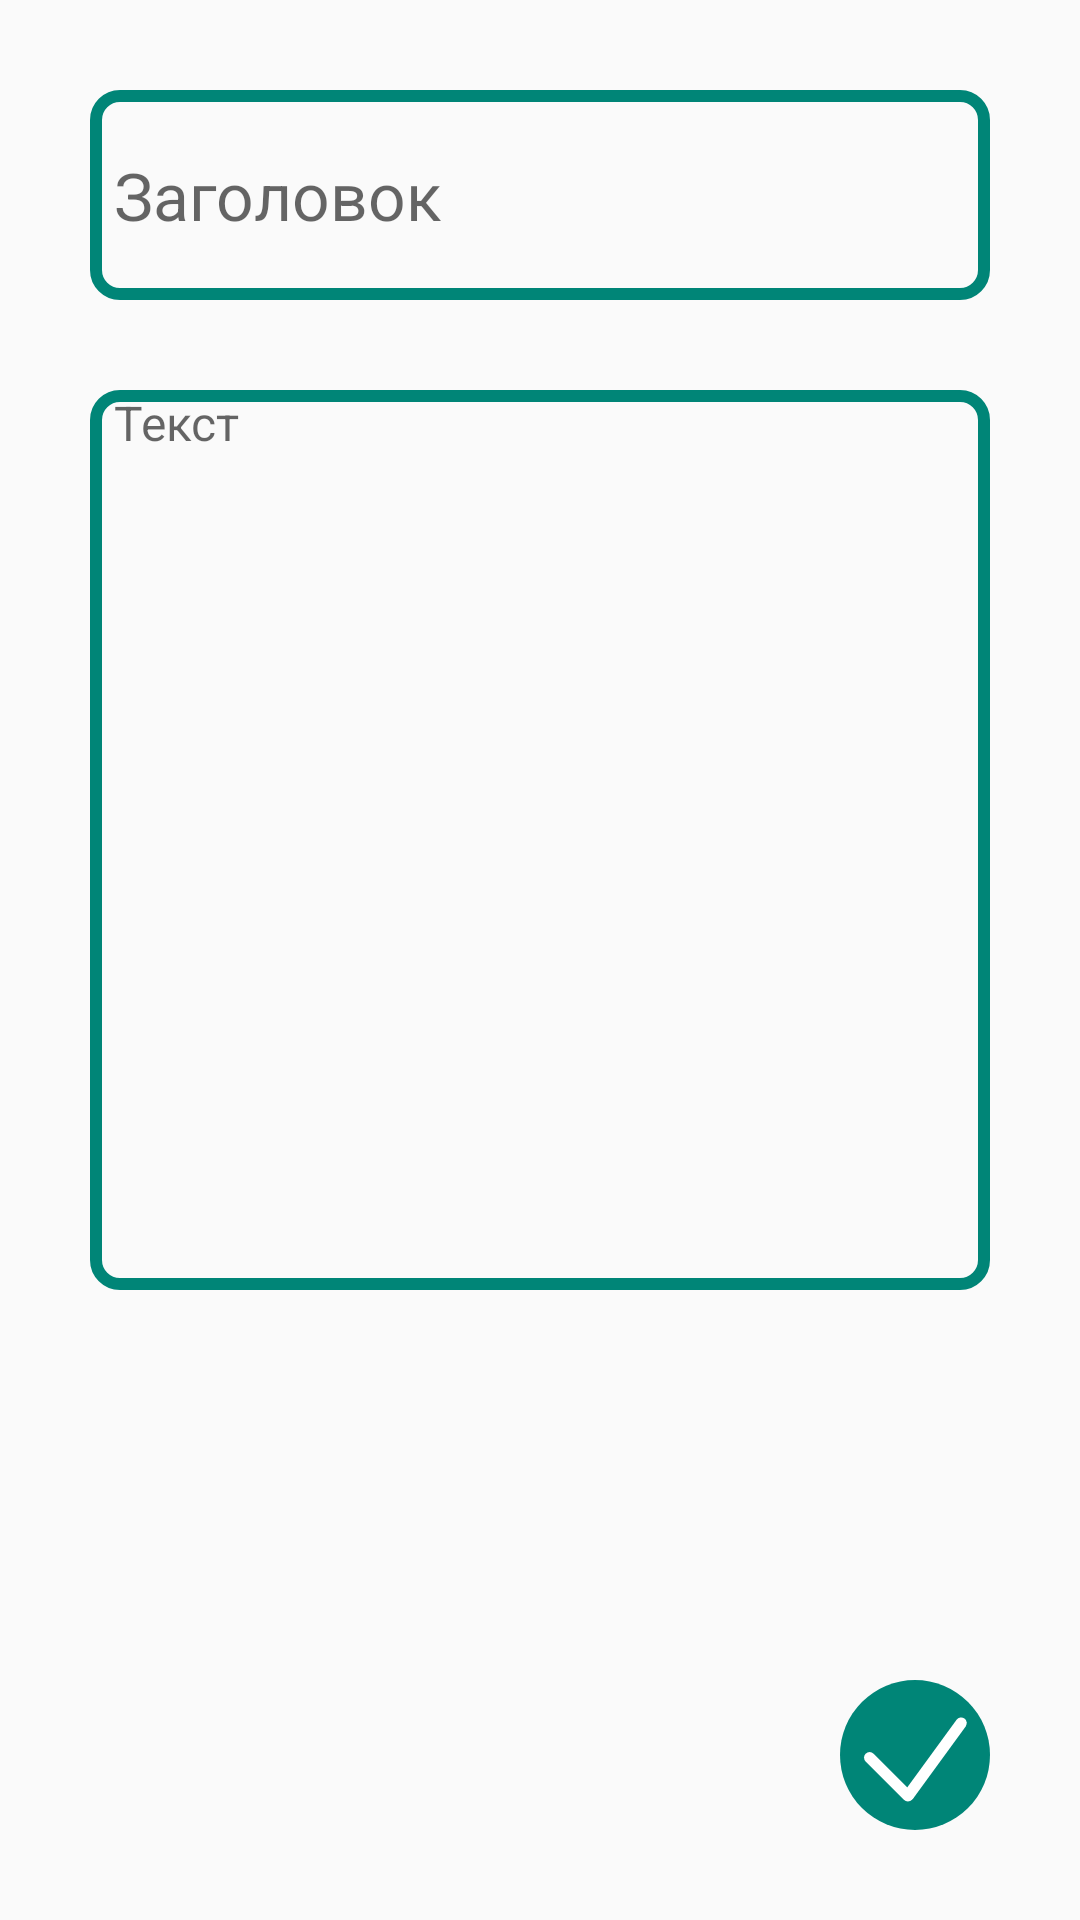

Named icons in this screenshot (1080 × 1920) and their bounding boxes, (x1, y1, x2, y2):
check: (840, 1680, 990, 1830)
